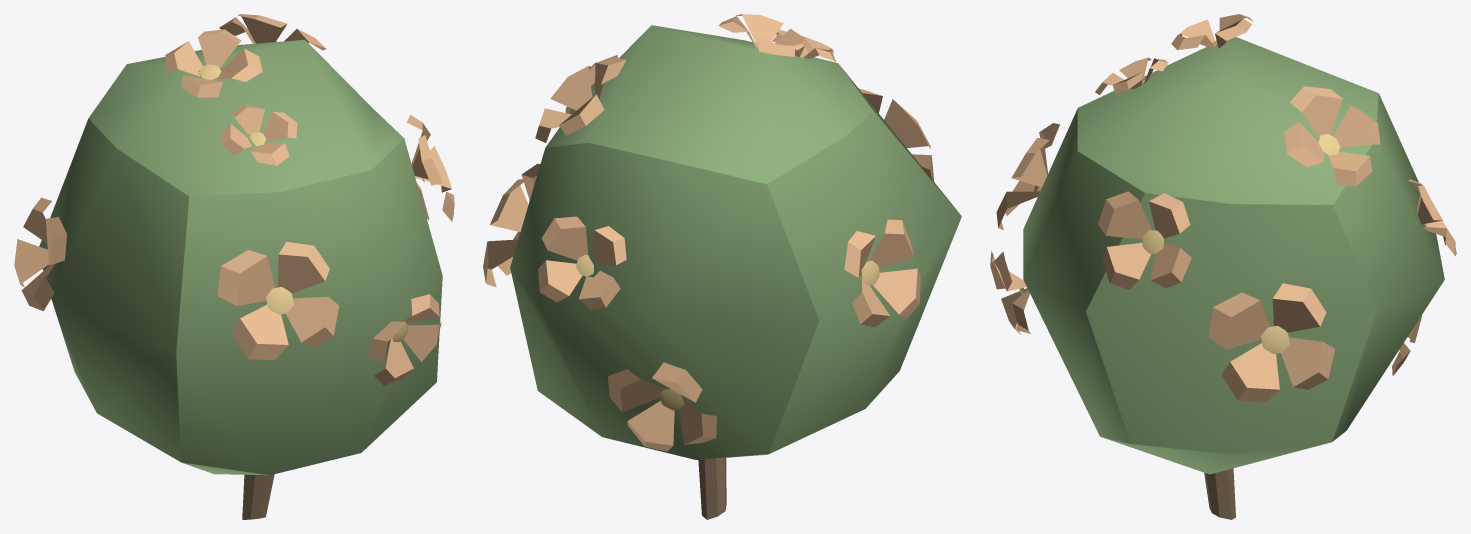
Rendered from orangeFlower.fbx.
3 views of the same model, side by side, from view 1: azimuth 30°, elevation 25°; view 2: azimuth 150°, elevation 25°; view 3: azimuth 270°, elevation 25° (orthographic). The views are drawn at different scales.
Parts seen in each view (by area): view 1: bush01, flowerPetals01 (×7), shrubStem01, flowerPollen01; view 2: bush01, flowerPetals01 (×8), shrubStem01; view 3: bush01, flowerPetals01 (×8), shrubStem01, flowerPollen01.
Part boxes in pixels (bbox=[...]): bush01: bbox=[39, 40, 442, 475]; flowerPetals01 (×7): bbox=[14, 14, 454, 385]; shrubStem01: bbox=[242, 474, 274, 519]; flowerPollen01: bbox=[266, 287, 294, 314]; bush01: bbox=[510, 25, 961, 459]; flowerPetals01 (×8): bbox=[483, 14, 933, 451]; shrubStem01: bbox=[698, 458, 726, 519]; bush01: bbox=[1023, 37, 1444, 474]; flowerPetals01 (×8): bbox=[990, 14, 1456, 402]; shrubStem01: bbox=[1204, 468, 1235, 519]; flowerPollen01: bbox=[1260, 325, 1289, 353].
Bounding box in the file's own units: 0.6134 × 0.7357 × 0.6482.
